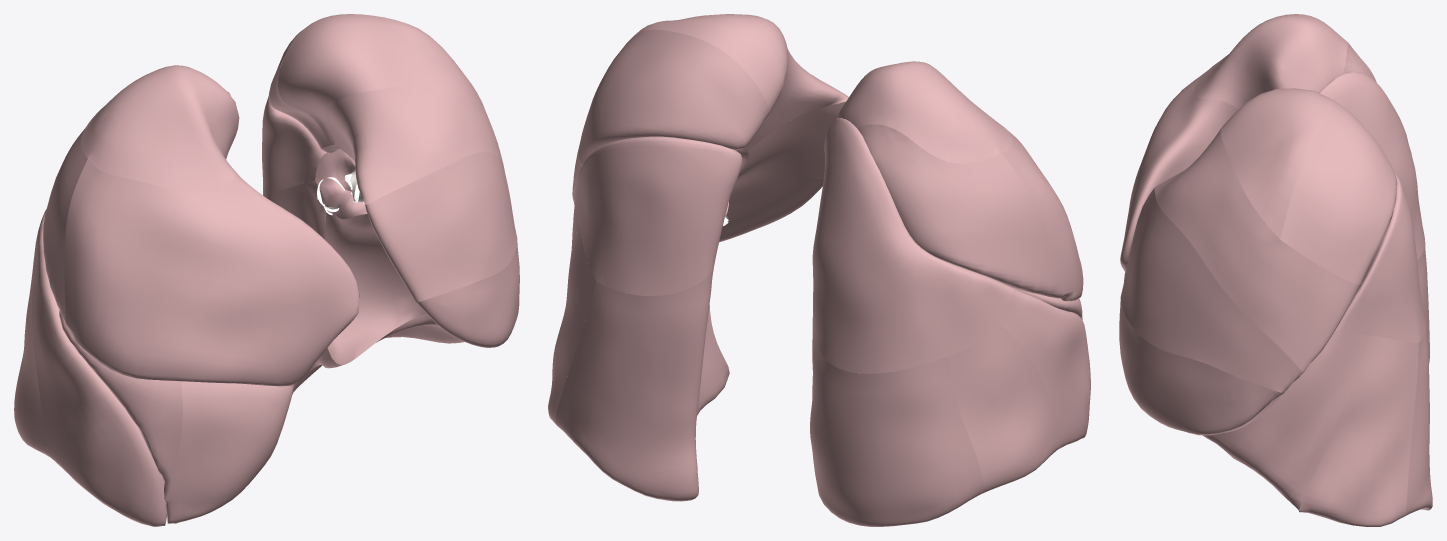
3 views of the same model, side by side, from view 1: azimuth 30°, elevation 25°; view 2: azimuth 150°, elevation 25°; view 3: azimuth 270°, elevation 25° (orthographic). The views are drawn at different scales.
Visible parts, largest first — view 1: VH_F_right_anterior_bronchopulmonary_segm, VH_F_right_anterior_basal_bronchopulmonary_segment, VH_F_lingula_superior_bronchopulmonary_segment, VH_F_right_apical_bronchopulmonary_segment, VH_F_left_anterior_bronchopulmonary_segment, VH_F_left_apical_bronchopulmonary_segment, VH_F_right_medial_bronchopulmonary_segment, VH_F_left_medial_basal_bronchopulmonary_segment, VH_F_lingula_inferior_bronchopulmonary_segment, VH_F_right_lateral_bronchopulmonary_segmennt, VH_F_left_superior_bronchopulmonary_segment, VH_F_right_posterior_bronchopulmonary_segment (+6 smaller); view 2: VH_F_right_superior_bronchopulmonary_segment, VH_F_left_posterior_basal_bronchopulmonary_segment, VH_F_right_posterior_basal_bronchopulmonary_segment, VH_F_left_superior_bronchopulmonary_segment, VH_F_right_posterior_bronchopulmonary_segment, VH_F_left_posterior_bronchopulmonary_segment, VH_F_right_lateral_basal_bronchopulmonary_segment, VH_F_right_apical_bronchopulmonary_segment, VH_F_right_anterior_basal_bronchopulmonary_segment, VH_F_left_apical_bronchopulmonary_segment, VH_F_lingula_inferior_bronchopulmonary_segment, VH_F_lingula_superior_bronchopulmonary_segment (+3 smaller); view 3: VH_F_left_anterior_bronchopulmonary_segment, VH_F_lingula_superior_bronchopulmonary_segment, VH_F_left_lateral_basal_bronchopulmonary_segment, VH_F_left_posterior_bronchopulmonary_segment, VH_F_left_anterior_basal_bronchopulmonary_segment, VH_F_lingula_inferior_bronchopulmonary_segment, VH_F_left_apical_bronchopulmonary_segment, VH_F_right_apical_bronchopulmonary_segment, VH_F_left_superior_bronchopulmonary_segment, VH_F_right_anterior_bronchopulmonary_segm, VH_F_right_superior_bronchopulmonary_segment, VH_F_left_posterior_basal_bronchopulmonary_segment (+2 smaller).
Part boxes in pixels (box(x1,y1,x2,y2)): VH_F_right_anterior_bronchopulmonary_segm: box(64, 159, 359, 386); VH_F_right_anterior_basal_bronchopulmonary_segment: box(32, 265, 166, 526); VH_F_lingula_superior_bronchopulmonary_segment: box(365, 151, 517, 302); VH_F_right_apical_bronchopulmonary_segment: box(81, 65, 239, 193); VH_F_left_anterior_bronchopulmonary_segment: box(329, 78, 502, 204); VH_F_left_apical_bronchopulmonary_segment: box(278, 14, 470, 145); VH_F_right_medial_bronchopulmonary_segment: box(165, 381, 293, 523); VH_F_left_medial_basal_bronchopulmonary_segment: box(324, 205, 425, 364); VH_F_lingula_inferior_bronchopulmonary_segment: box(416, 242, 519, 347); VH_F_right_lateral_bronchopulmonary_segmennt: box(59, 310, 182, 499); VH_F_left_superior_bronchopulmonary_segment: box(262, 95, 326, 197); VH_F_right_posterior_bronchopulmonary_segment: box(43, 129, 87, 325); VH_F_right_superior_bronchopulmonary_segment: box(812, 118, 1012, 373); VH_F_left_posterior_basal_bronchopulmonary_segment: box(555, 265, 729, 501); VH_F_right_posterior_basal_bronchopulmonary_segment: box(810, 325, 983, 526); VH_F_left_superior_bronchopulmonary_segment: box(576, 136, 742, 295); VH_F_right_posterior_bronchopulmonary_segment: box(857, 124, 1064, 298); VH_F_left_posterior_bronchopulmonary_segment: box(579, 29, 769, 164); VH_F_right_lateral_basal_bronchopulmonary_segment: box(948, 322, 1058, 493); VH_F_right_apical_bronchopulmonary_segment: box(836, 61, 1012, 163); VH_F_right_anterior_basal_bronchopulmonary_segment: box(999, 287, 1090, 449); VH_F_left_apical_bronchopulmonary_segment: box(634, 14, 788, 113); VH_F_lingula_inferior_bronchopulmonary_segment: box(719, 171, 823, 242); VH_F_lingula_superior_bronchopulmonary_segment: box(739, 101, 845, 178); VH_F_left_anterior_bronchopulmonary_segment: box(1154, 129, 1360, 372); VH_F_lingula_superior_bronchopulmonary_segment: box(1120, 188, 1303, 393); VH_F_left_lateral_basal_bronchopulmonary_segment: box(1299, 335, 1418, 526); VH_F_left_posterior_bronchopulmonary_segment: box(1280, 100, 1397, 284); VH_F_left_anterior_basal_bronchopulmonary_segment: box(1202, 330, 1369, 510); VH_F_lingula_inferior_bronchopulmonary_segment: box(1119, 300, 1283, 435); VH_F_left_apical_bronchopulmonary_segment: box(1220, 88, 1333, 239); VH_F_right_apical_bronchopulmonary_segment: box(1194, 14, 1348, 109); VH_F_left_superior_bronchopulmonary_segment: box(1335, 173, 1426, 342); VH_F_right_anterior_bronchopulmonary_segm: box(1120, 71, 1238, 272); VH_F_right_superior_bronchopulmonary_segment: box(1319, 71, 1424, 259); VH_F_left_posterior_basal_bronchopulmonary_segment: box(1404, 329, 1432, 516).
Bounding box in the file's own units: 0.2511 × 0.223 × 0.1526.
